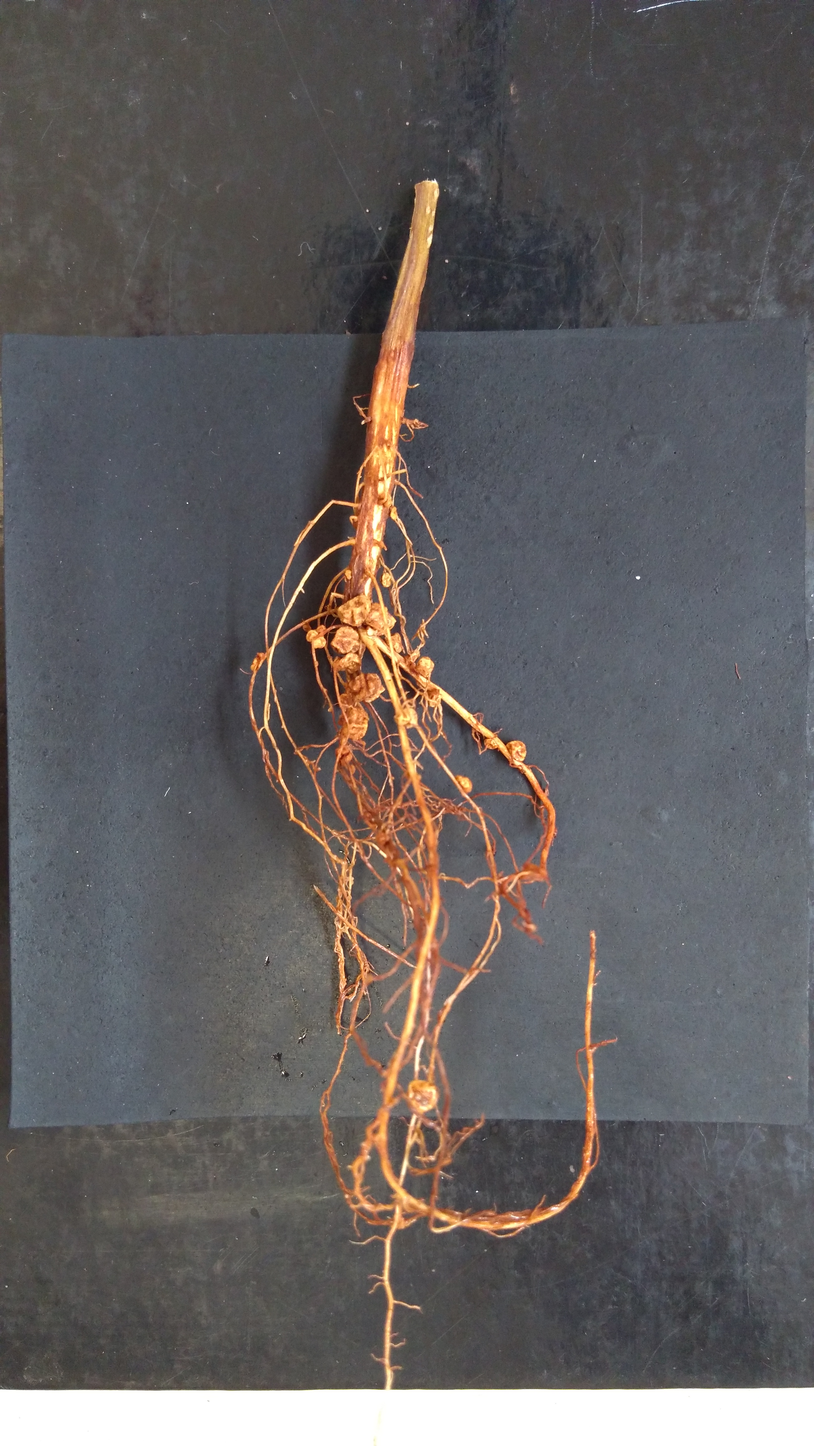nodule: (407, 1076, 441, 1115), (336, 593, 372, 629), (363, 602, 399, 632), (340, 705, 370, 741), (328, 624, 361, 654), (338, 673, 365, 706), (364, 669, 385, 705), (414, 655, 436, 680), (333, 654, 361, 673), (506, 739, 528, 763), (385, 630, 403, 655), (305, 629, 327, 649), (455, 775, 476, 795), (403, 706, 419, 730), (426, 686, 441, 709), (380, 570, 394, 590), (393, 710, 410, 726), (482, 735, 499, 750), (387, 504, 399, 524), (379, 492, 394, 507), (343, 569, 352, 580)
